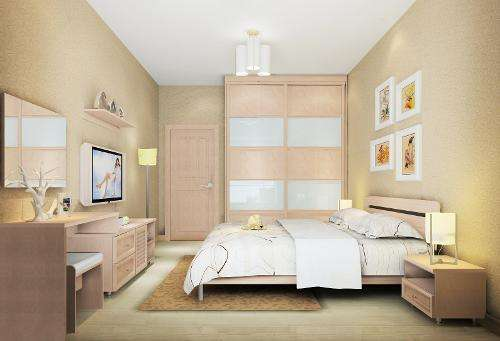床: (186, 219, 441, 296)
枕头: (327, 209, 421, 243)
灯: (424, 209, 464, 265), (235, 27, 276, 81), (134, 146, 158, 217)
